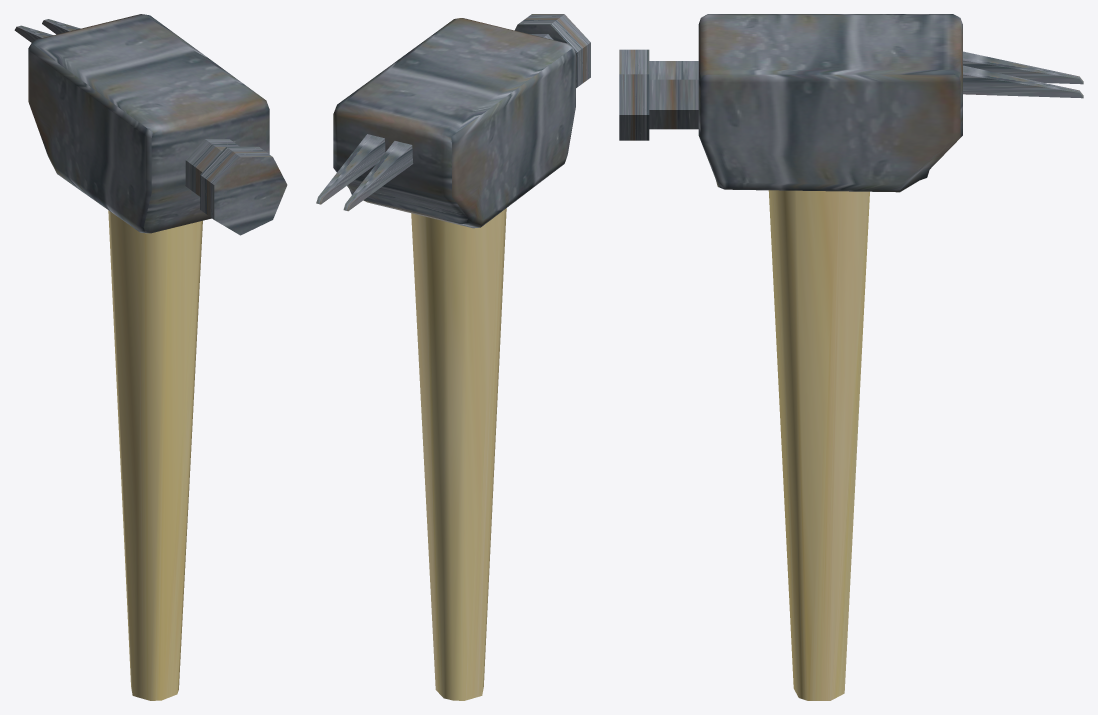
The model's file is Hammer_2.fbx.
The picture shows the model from 3 angles, left to right: view 1: azimuth 30°, elevation 25°; view 2: azimuth 150°, elevation 25°; view 3: azimuth 270°, elevation 25°; orthographic projection. The views are drawn at different scales.
Visible parts, largest first — view 1: Hammer__2; view 2: Hammer__2; view 3: Hammer__2.
Boxes of the visible parts, x1,y1,x2,y2 form: Hammer__2: [14, 14, 287, 700]; Hammer__2: [316, 14, 590, 700]; Hammer__2: [619, 14, 1083, 700].
Bounding box in the file's own units: 0.8268 × 3.98 × 2.58.
1 material, 1 textured.
